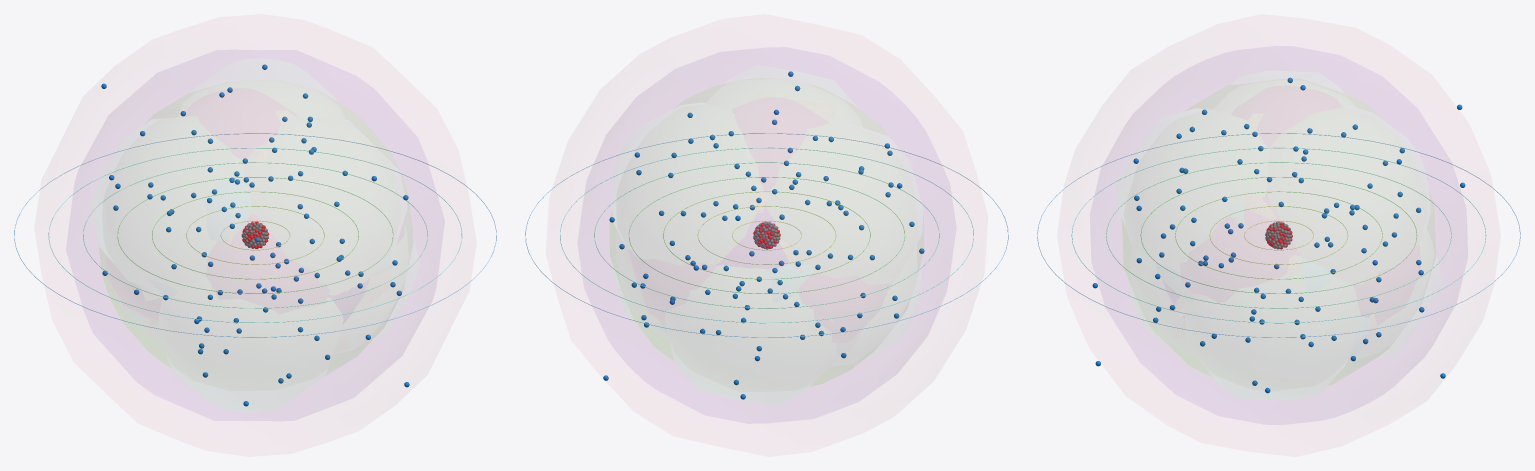
3 views of the same model, side by side, from view 1: azimuth 30°, elevation 25°; view 2: azimuth 150°, elevation 25°; view 3: azimuth 270°, elevation 25° (orthographic).
Parts seen in each view (by area): view 1: Orbital_5s_0, Nivel_n7, Nivel_n6, Nivel_n5, Nivel_n4, Nivel_n3; view 2: Orbital_5s_0, Nivel_n7, Nivel_n6, Nivel_n5, Nivel_n4, Nivel_n3; view 3: Orbital_5s_0, Nivel_n7, Nivel_n6, Nivel_n5, Nivel_n4, Nivel_n3.
Part boxes in pixels (box(x1,y1,x2,y2)): Orbital_5s_0: box(99, 86, 412, 374); Nivel_n7: box(14, 133, 496, 337); Nivel_n6: box(48, 148, 462, 322); Nivel_n5: box(83, 162, 427, 308); Nivel_n4: box(117, 177, 393, 293); Nivel_n3: box(152, 191, 358, 279); Orbital_5s_0: box(610, 78, 923, 385); Nivel_n7: box(525, 133, 1008, 337); Nivel_n6: box(560, 147, 973, 323); Nivel_n5: box(594, 162, 939, 308); Nivel_n4: box(628, 177, 905, 293); Nivel_n3: box(663, 191, 870, 279); Orbital_5s_0: box(1122, 79, 1435, 384); Nivel_n7: box(1037, 133, 1520, 337); Nivel_n6: box(1071, 147, 1486, 323); Nivel_n5: box(1106, 162, 1451, 308); Nivel_n4: box(1140, 177, 1417, 293); Nivel_n3: box(1175, 191, 1382, 279).
Size of the model in its own units: 2.1 by 1.93 by 2.1.
